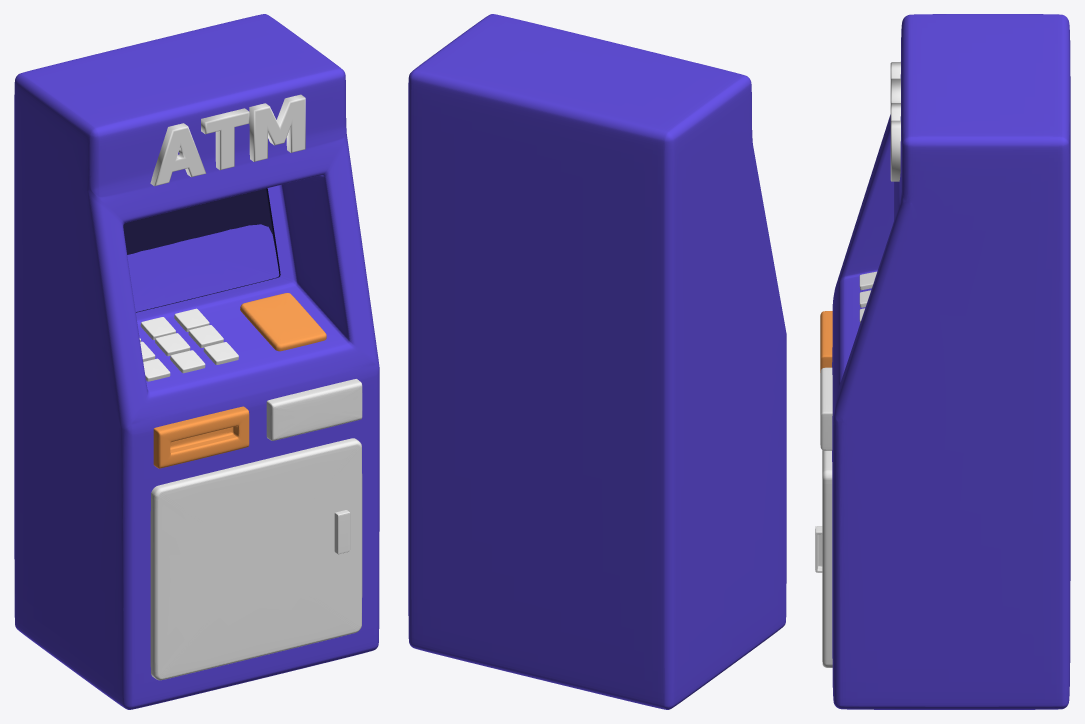
Rendered from ATM.fbx.
3 renders of one model, left to right at view 1: azimuth 30°, elevation 25°; view 2: azimuth 150°, elevation 25°; view 3: azimuth 270°, elevation 25°, orthographic. The views are drawn at different scales.
Visible parts, largest first — view 1: Cube.038, Cube.037, Text, Cube.026, Cube.032, Cube.036, Plane.009, Cube.029, Cube.027; view 2: Cube.038; view 3: Cube.038, Cube.037, Text, Cube.032, Cube.036, Plane.009.
Part boxes in pixels (x1,y1,x2,y2): Cube.038: (14, 14, 379, 709); Cube.037: (150, 438, 362, 680); Text: (150, 94, 305, 186); Cube.026: (123, 188, 280, 312); Cube.032: (266, 379, 362, 440); Cube.036: (153, 406, 249, 468); Plane.009: (139, 308, 238, 381); Cube.029: (240, 293, 326, 351); Cube.027: (334, 510, 350, 554); Cube.038: (408, 14, 786, 709); Cube.038: (832, 14, 1070, 709); Cube.037: (822, 450, 832, 667); Text: (890, 62, 900, 181); Cube.032: (820, 367, 832, 450); Cube.036: (820, 311, 832, 372); Plane.009: (859, 271, 876, 322).
Bounding box in the file's own units: 165 × 343 × 138.
